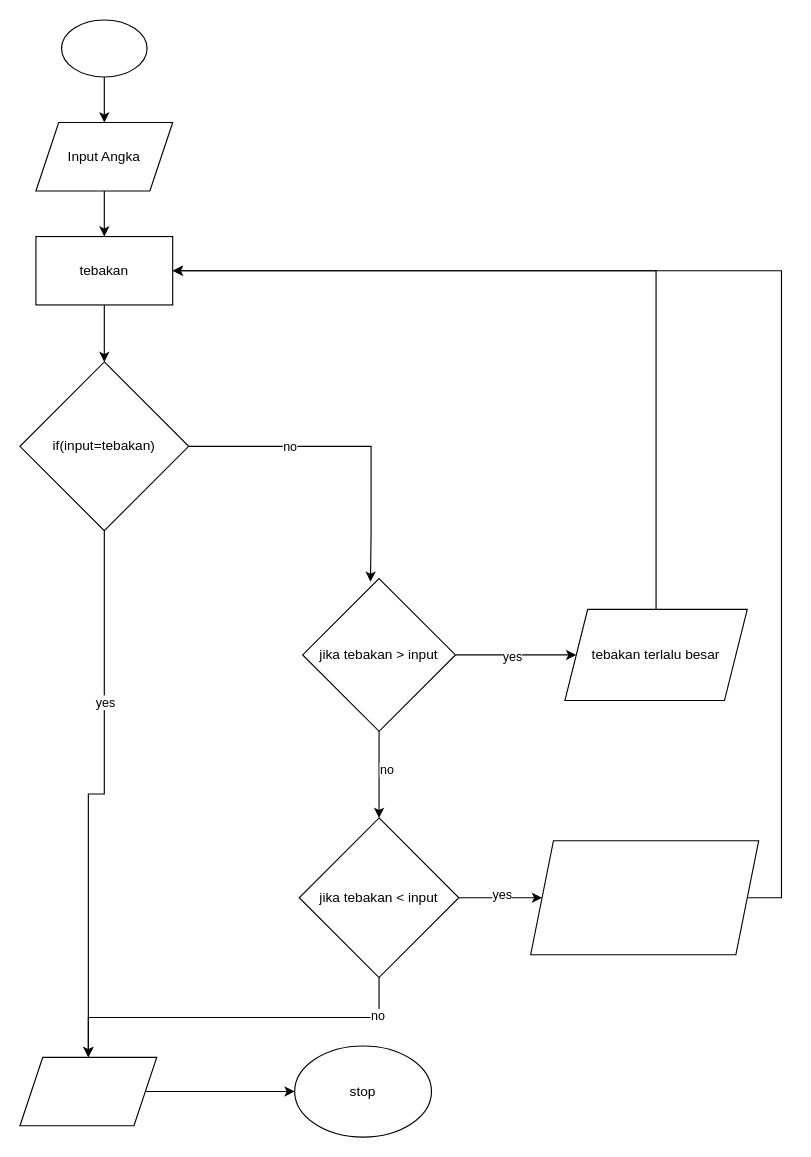
Some shapes in this 811 by 1157 pixel diagram are drawn without their labels. Each missing label, with the centre of its shape:
"Start" belongs at point (103, 48).
"tebakan benar" belongs at point (88, 1091).
"terlalu kecil" belongs at point (644, 897).
